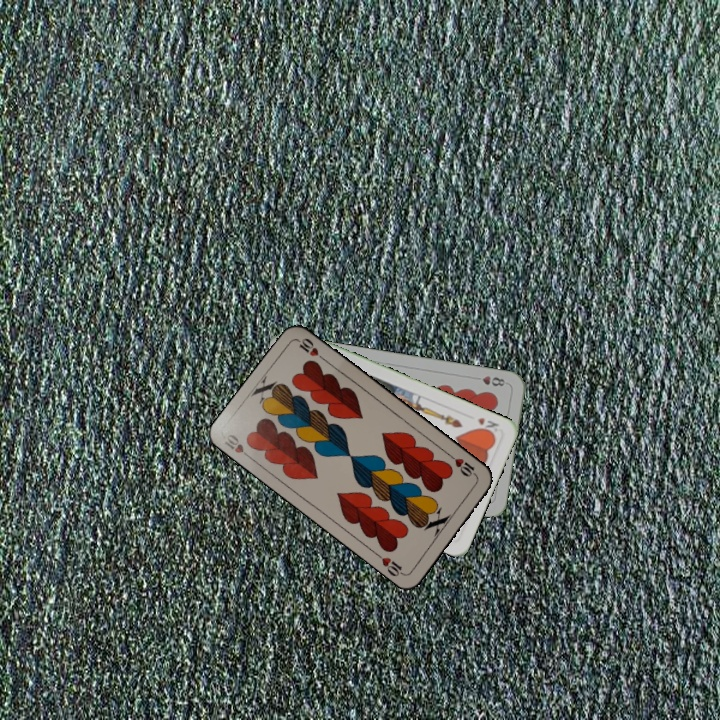H10: (220, 430, 255, 463), (445, 451, 480, 480)
H8: (478, 372, 510, 389)
HK: (473, 413, 501, 438)
